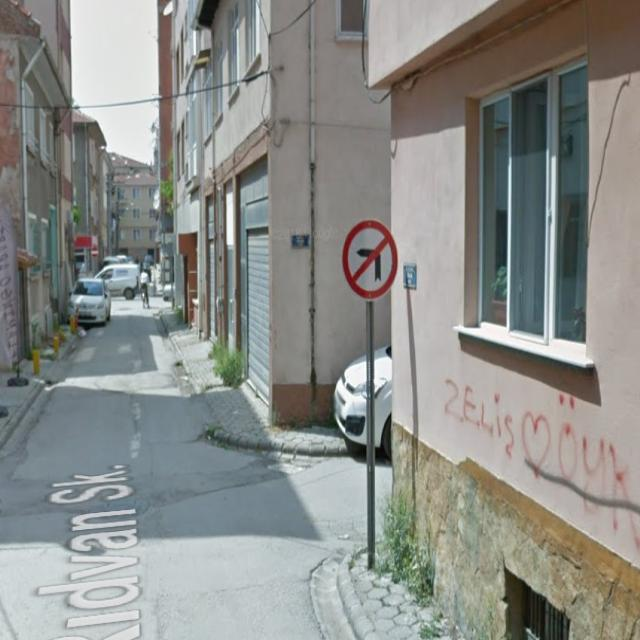girisyok: (91, 248, 99, 257)
soladonulmez: (342, 220, 398, 300)
